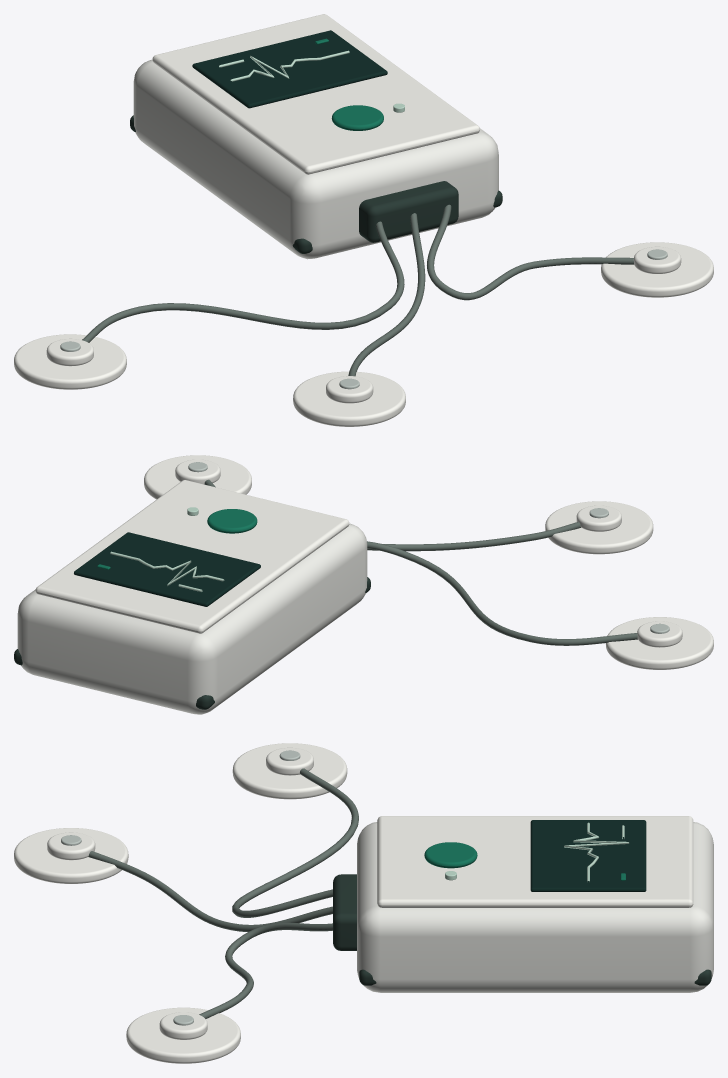
File: service-holter-cardiaco.glb
The picture shows the model from 3 angles, top to bottom: view 1: azimuth 30°, elevation 25°; view 2: azimuth 150°, elevation 25°; view 3: azimuth 270°, elevation 25°; orthographic projection. The views are drawn at different scales.
Parts seen in each view (by area): view 1: Holter_Cardiaco_White_Case, Holter_Cardiaco_Top_Plane, Holter_Cardiaco_Glass, Holter_Cardiaco_Electrode_1_Adhesive_Pad, Holter_Cardiaco_Electrode_0_Adhesive_Pad, Holter_Cable_Port, Holter_Cardiaco_Electrode_2_Adhesive_Pad, Holter_Cardiaco_Lead_0, Holter_Cardiaco_Lead_2, Holter_Cardiaco_Lead_1, Holter_Cardiaco_Action_Button, Holter_Cardiaco_Electrode_1_Snap (+2 smaller); view 2: Holter_Cardiaco_White_Case, Holter_Cardiaco_Top_Plane, Holter_Cardiaco_Glass, Holter_Cardiaco_Electrode_1_Adhesive_Pad, Holter_Cardiaco_Electrode_0_Adhesive_Pad, Holter_Cardiaco_Electrode_2_Adhesive_Pad, Holter_Cardiaco_Lead_0, Holter_Cardiaco_Lead_1, Holter_Cardiaco_Action_Button, Holter_Cardiaco_Electrode_0_Snap, Holter_Cardiaco_Electrode_1_Snap, Holter_Cardiaco_Electrode_2_Snap (+1 smaller); view 3: Holter_Cardiaco_White_Case, Holter_Cardiaco_Top_Plane, Holter_Cardiaco_Glass, Holter_Cardiaco_Electrode_2_Adhesive_Pad, Holter_Cardiaco_Electrode_1_Adhesive_Pad, Holter_Cardiaco_Electrode_0_Adhesive_Pad, Holter_Cardiaco_Lead_0, Holter_Cardiaco_Lead_1, Holter_Cable_Port, Holter_Cardiaco_Lead_2, Holter_Cardiaco_Action_Button, Holter_Cardiaco_Electrode_2_Snap (+3 smaller).
Part boxes in pixels (x1=…): Holter_Cardiaco_White_Case: x1=133, y1=59, x2=498, y2=259; Holter_Cardiaco_Top_Plane: x1=152, y1=14, x2=479, y2=174; Holter_Cardiaco_Glass: x1=192, y1=30, x2=387, y2=108; Holter_Cardiaco_Electrode_1_Adhesive_Pad: x1=293, y1=371, x2=405, y2=426; Holter_Cardiaco_Electrode_0_Adhesive_Pad: x1=14, y1=334, x2=126, y2=389; Holter_Cable_Port: x1=359, y1=181, x2=458, y2=242; Holter_Cardiaco_Electrode_2_Adhesive_Pad: x1=601, y1=242, x2=713, y2=297; Holter_Cardiaco_Lead_0: x1=82, y1=221, x2=404, y2=342; Holter_Cardiaco_Lead_2: x1=427, y1=204, x2=633, y2=300; Holter_Cardiaco_Lead_1: x1=348, y1=213, x2=425, y2=376; Holter_Cardiaco_Action_Button: x1=331, y1=105, x2=383, y2=130; Holter_Cardiaco_Electrode_1_Snap: x1=326, y1=376, x2=373, y2=403; Holter_Cardiaco_White_Case: x1=17, y1=523, x2=367, y2=714; Holter_Cardiaco_Top_Plane: x1=35, y1=480, x2=349, y2=633; Holter_Cardiaco_Glass: x1=74, y1=532, x2=260, y2=606; Holter_Cardiaco_Electrode_1_Adhesive_Pad: x1=545, y1=501, x2=653, y2=554; Holter_Cardiaco_Electrode_0_Adhesive_Pad: x1=605, y1=617, x2=713, y2=669; Holter_Cardiaco_Electrode_2_Adhesive_Pad: x1=144, y1=455, x2=251, y2=499; Holter_Cardiaco_Lead_0: x1=367, y1=541, x2=637, y2=645; Holter_Cardiaco_Lead_1: x1=367, y1=522, x2=580, y2=551; Holter_Cardiaco_Action_Button: x1=207, y1=509, x2=257, y2=533; Holter_Cardiaco_Electrode_0_Snap: x1=637, y1=621, x2=682, y2=647; Holter_Cardiaco_Electrode_1_Snap: x1=576, y1=505, x2=621, y2=531; Holter_Cardiaco_Electrode_2_Snap: x1=175, y1=459, x2=220, y2=484; Holter_Cardiaco_White_Case: x1=357, y1=822, x2=713, y2=992; Holter_Cardiaco_Top_Plane: x1=377, y1=816, x2=693, y2=907; Holter_Cardiaco_Glass: x1=530, y1=820, x2=646, y2=891; Holter_Cardiaco_Electrode_2_Adhesive_Pad: x1=126, y1=1007, x2=240, y2=1063; Holter_Cardiaco_Electrode_1_Adhesive_Pad: x1=14, y1=828, x2=128, y2=883; Holter_Cardiaco_Electrode_0_Adhesive_Pad: x1=232, y1=743, x2=347, y2=799; Holter_Cardiaco_Lead_0: x1=232, y1=768, x2=358, y2=917; Holter_Cardiaco_Lead_1: x1=88, y1=851, x2=332, y2=931; Holter_Cable_Port: x1=333, y1=874, x2=356, y2=950; Holter_Cardiaco_Lead_2: x1=199, y1=922, x2=332, y2=1018; Holter_Cardiaco_Action_Button: x1=424, y1=842, x2=477, y2=868; Holter_Cardiaco_Electrode_2_Snap: x1=159, y1=1012, x2=207, y2=1039.
Size of the model in its own units: 3.62 by 0.6064 by 3.42.
